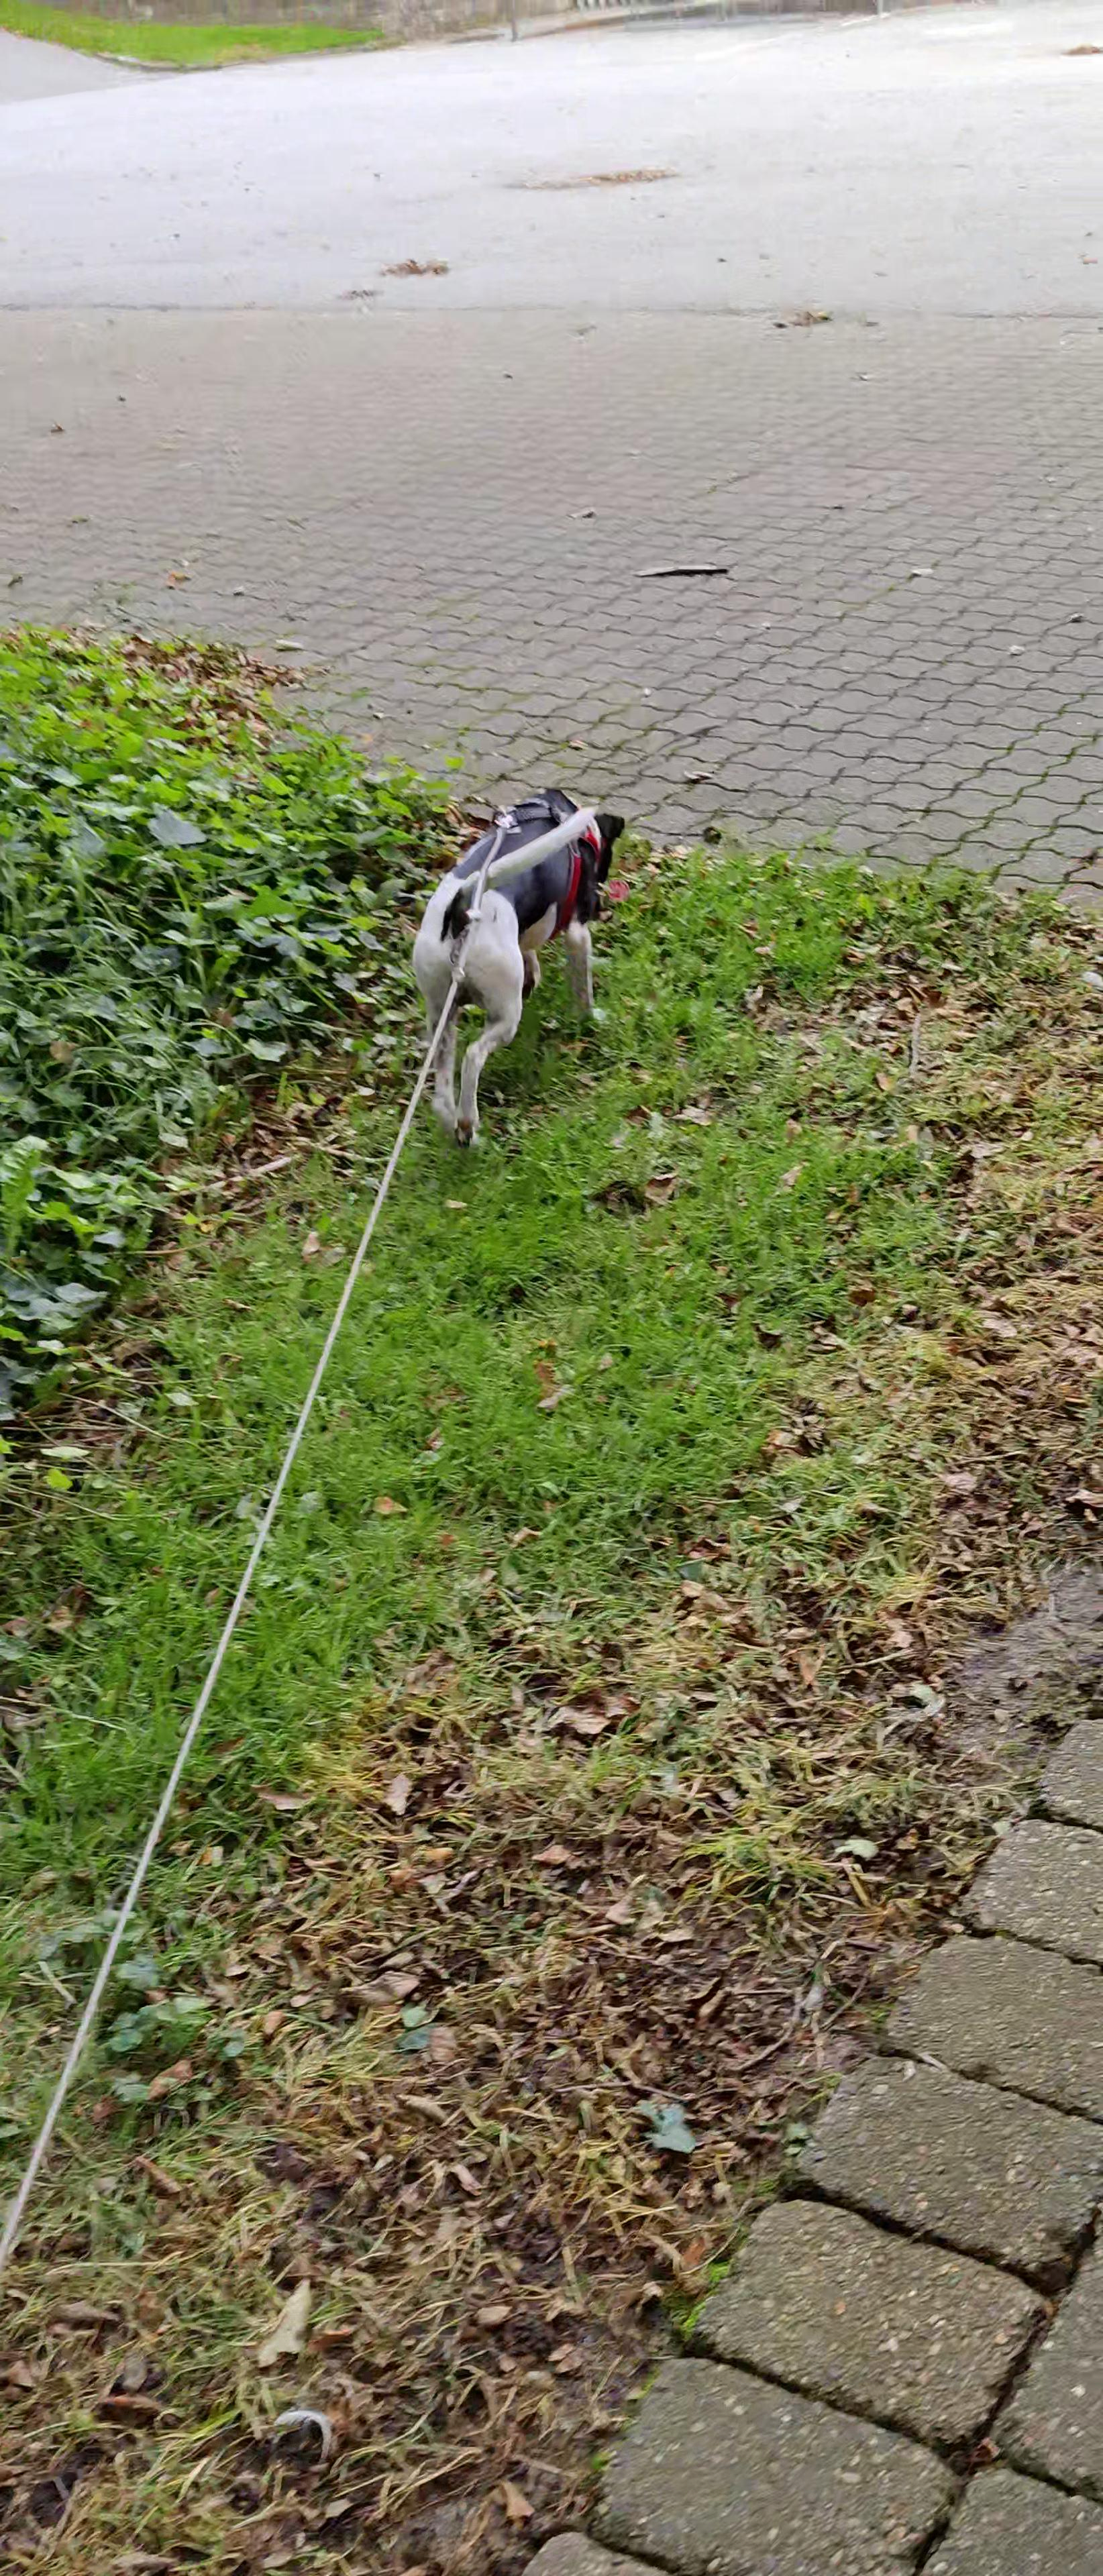Dog: (368, 780, 639, 1150)
